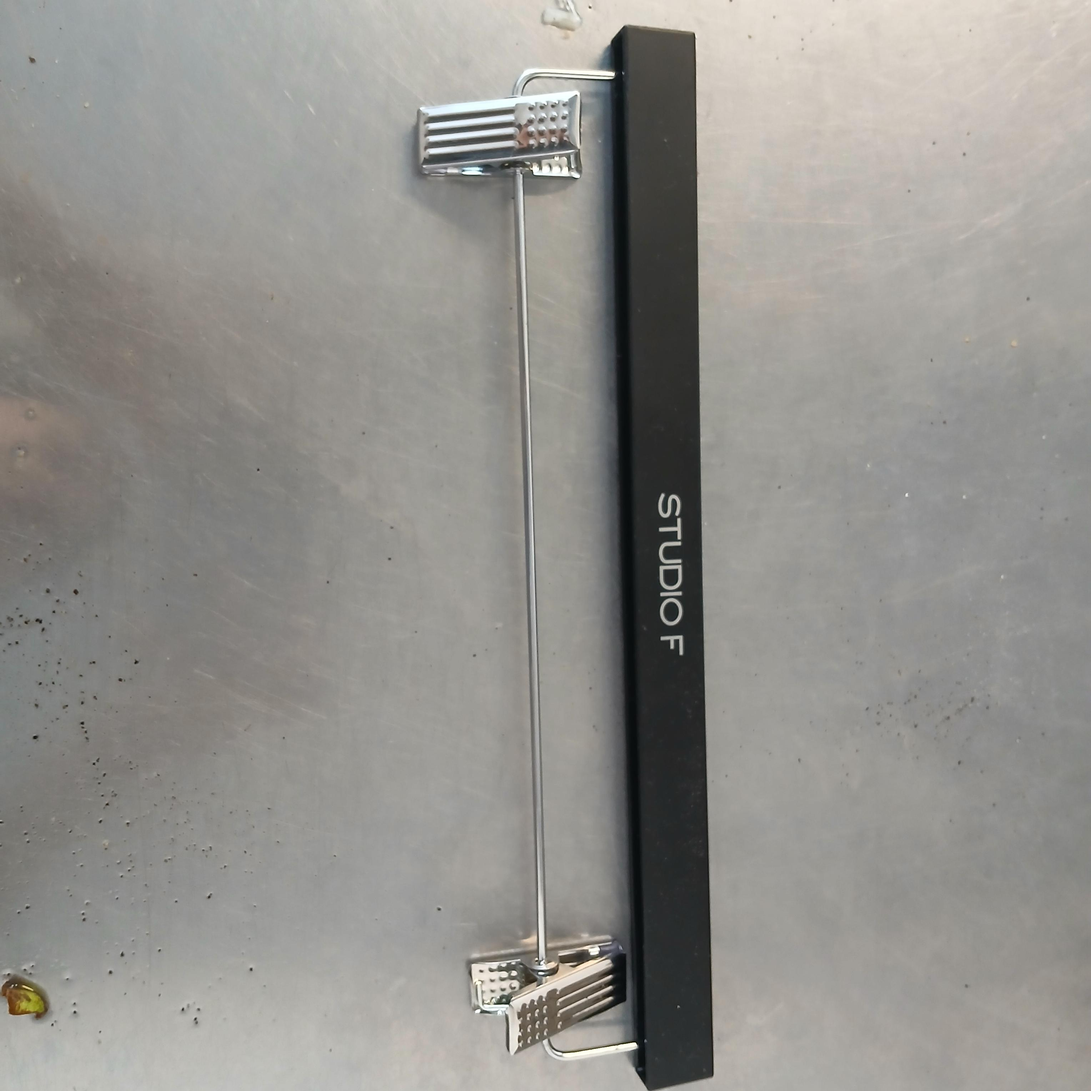Ordinario: (417, 0, 717, 1089)
